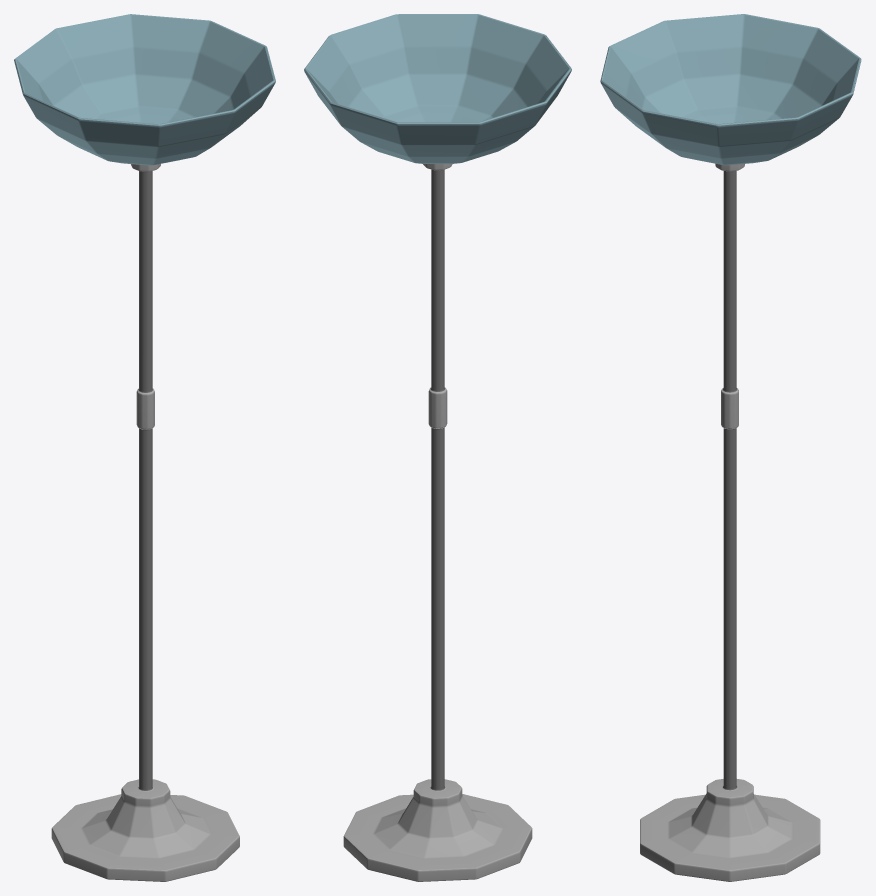
File: Floor_Lamp.fbx
The picture shows the model from 3 angles, left to right: view 1: azimuth 30°, elevation 25°; view 2: azimuth 150°, elevation 25°; view 3: azimuth 270°, elevation 25°; orthographic projection.
Parts seen in each view (by area): view 1: Floor_Lamp; view 2: Floor_Lamp; view 3: Floor_Lamp.
Part boxes in pixels (x1,y1,x2,y2): Floor_Lamp: (14,14,275,881); Floor_Lamp: (304,14,571,881); Floor_Lamp: (600,14,861,881).
Size of the model in its own units: 1.58 by 5.06 by 1.55.
